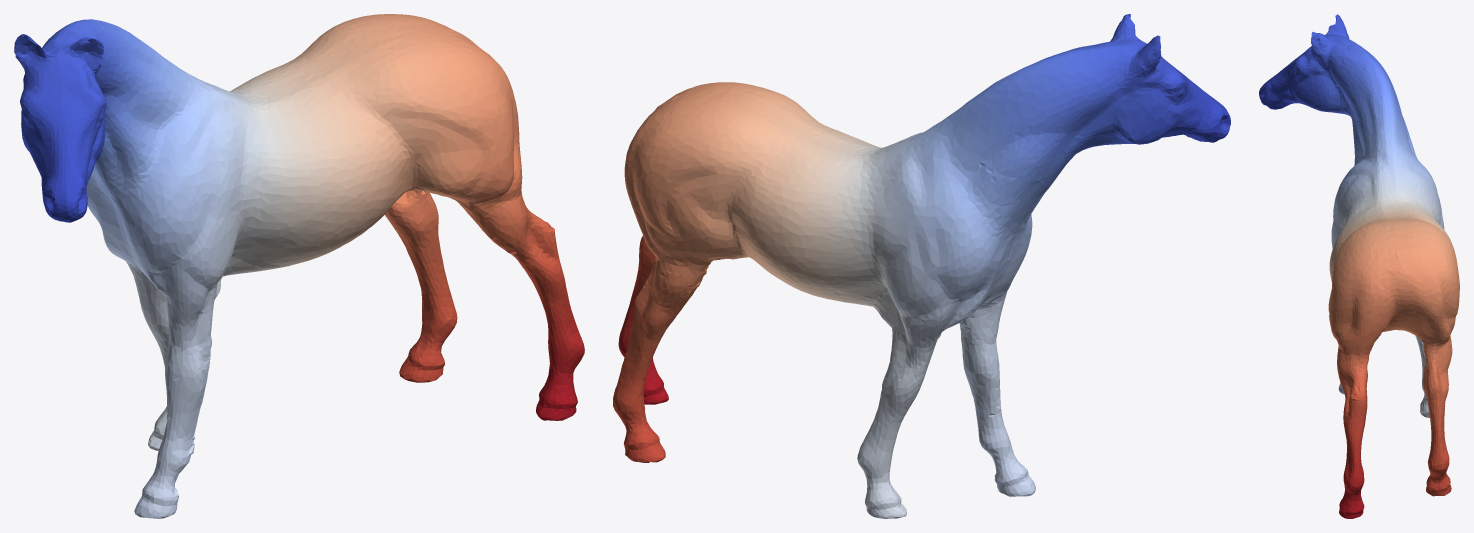
Rendered from gamma1.obj.
The picture shows the model from 3 angles, left to right: view 1: azimuth 30°, elevation 25°; view 2: azimuth 150°, elevation 25°; view 3: azimuth 270°, elevation 25°; orthographic projection. The views are drawn at different scales.
Size of the model in its own units: 0.1834 by 0.1529 by 0.084.
Materials: 1 (1 with a texture image).
